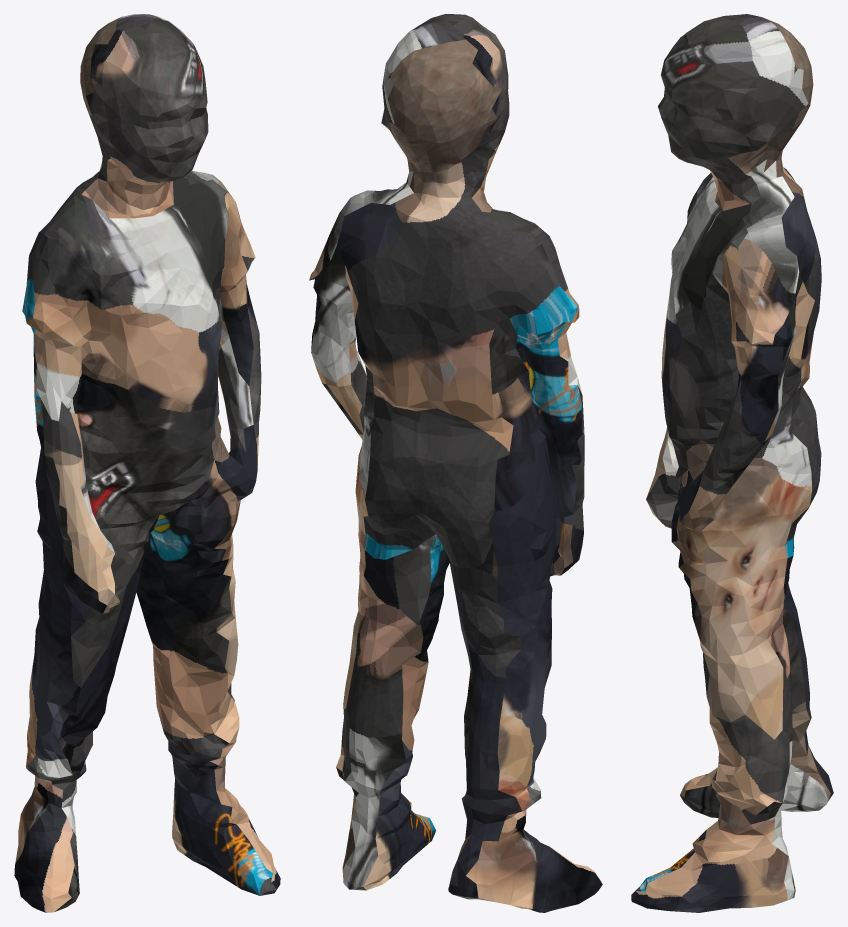
The model's file is kid_5.glb.
3 renders of one model, left to right at view 1: azimuth 30°, elevation 25°; view 2: azimuth 150°, elevation 25°; view 3: azimuth 270°, elevation 25°, orthographic.
Visible parts, largest first — view 1: kid_5; view 2: kid_5; view 3: kid_5.
Boxes of the visible parts, left/top/right/bottom form: kid_5: left=14, top=14, right=280, bottom=912; kid_5: left=309, top=14, right=602, bottom=912; kid_5: left=631, top=14, right=833, bottom=912.
Size of the model in its own units: 0.338 by 1.1 by 0.239.
Materials: 1 (1 with a texture image).
